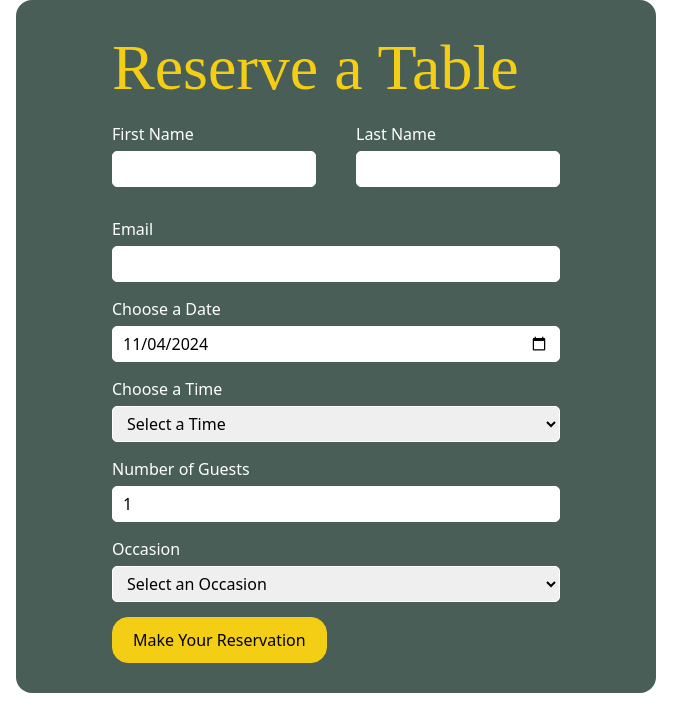
Test: BookingForm › Displays error when the Make Your Reservation button is clicked and something is empty
click the submit btn and wait for any changes to happen
What coordinates should you click on to do the following:
click the button "Make Your Reservation"
I would click on:
 (219, 640)
Its box is [112, 617, 327, 663].
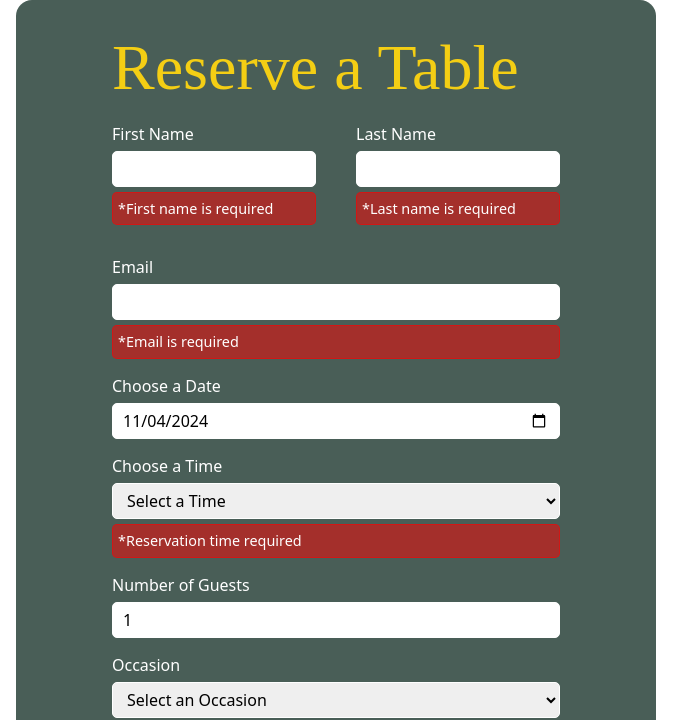
Expected: the text "*First name is required" is shown, [112, 192, 316, 225]
Expected: the text "*Last name is required" is shown, [356, 192, 560, 225]
Expected: the text "*Email is required" is shown, [112, 325, 560, 359]
